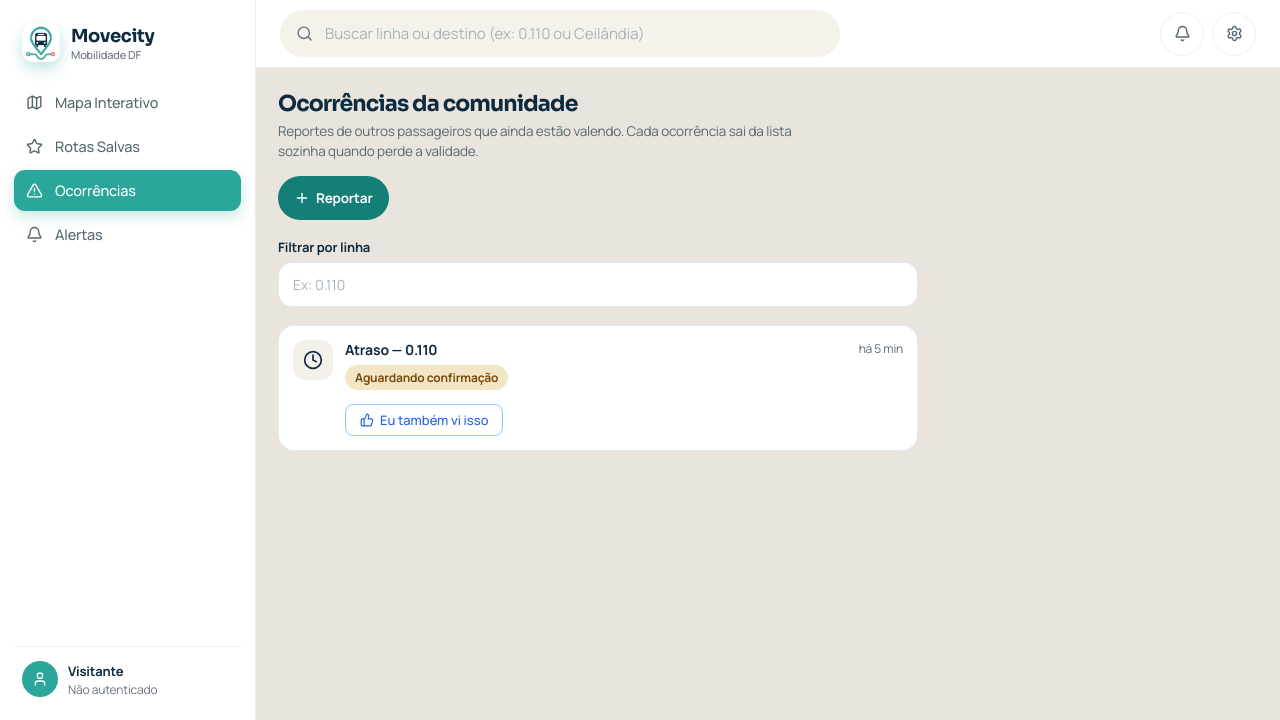
Test: OcorrenciasPage — confirmar ocorrência (US #26) › exibe mensagem de sucesso e atualiza o contador após confirmação
The image size is (1280, 720).
What coordinates should you click on to do the following:
click the button "Eu também vi isso"
I would click on:
 (424, 420)
Its box is [345, 404, 504, 436].
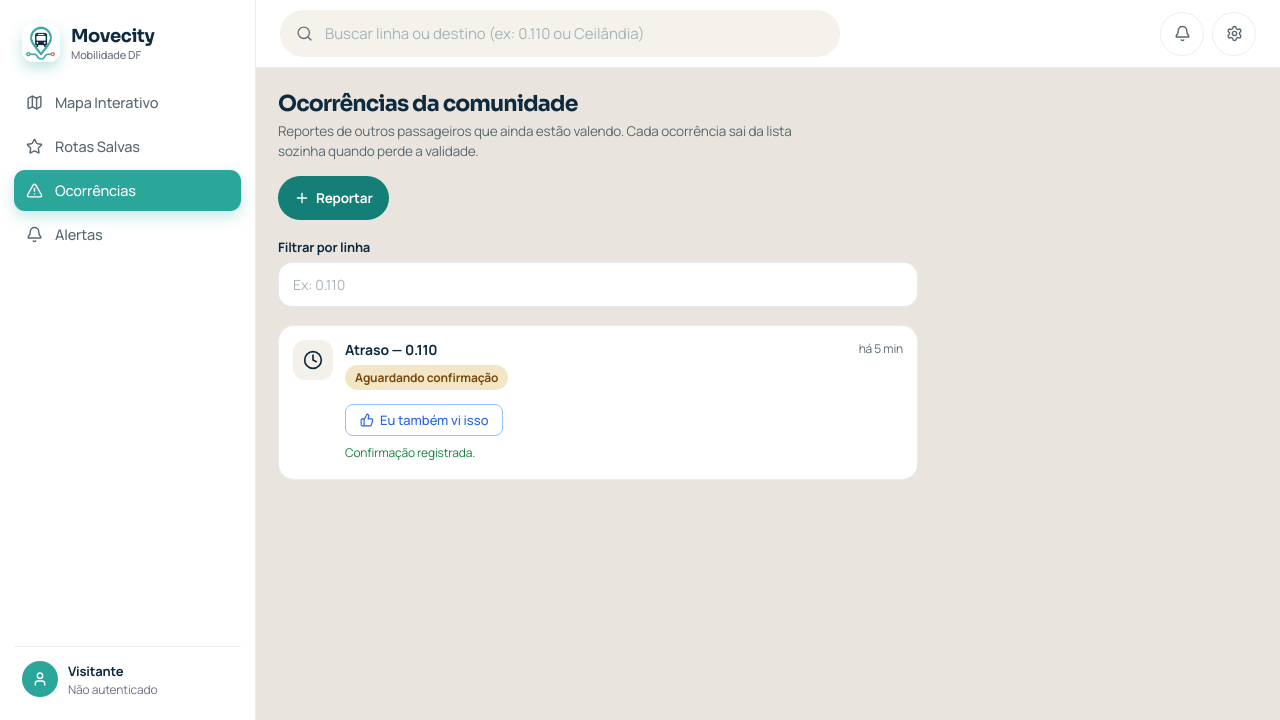
Now the text "Confirmação registrada." is shown, box [345, 444, 475, 461]
